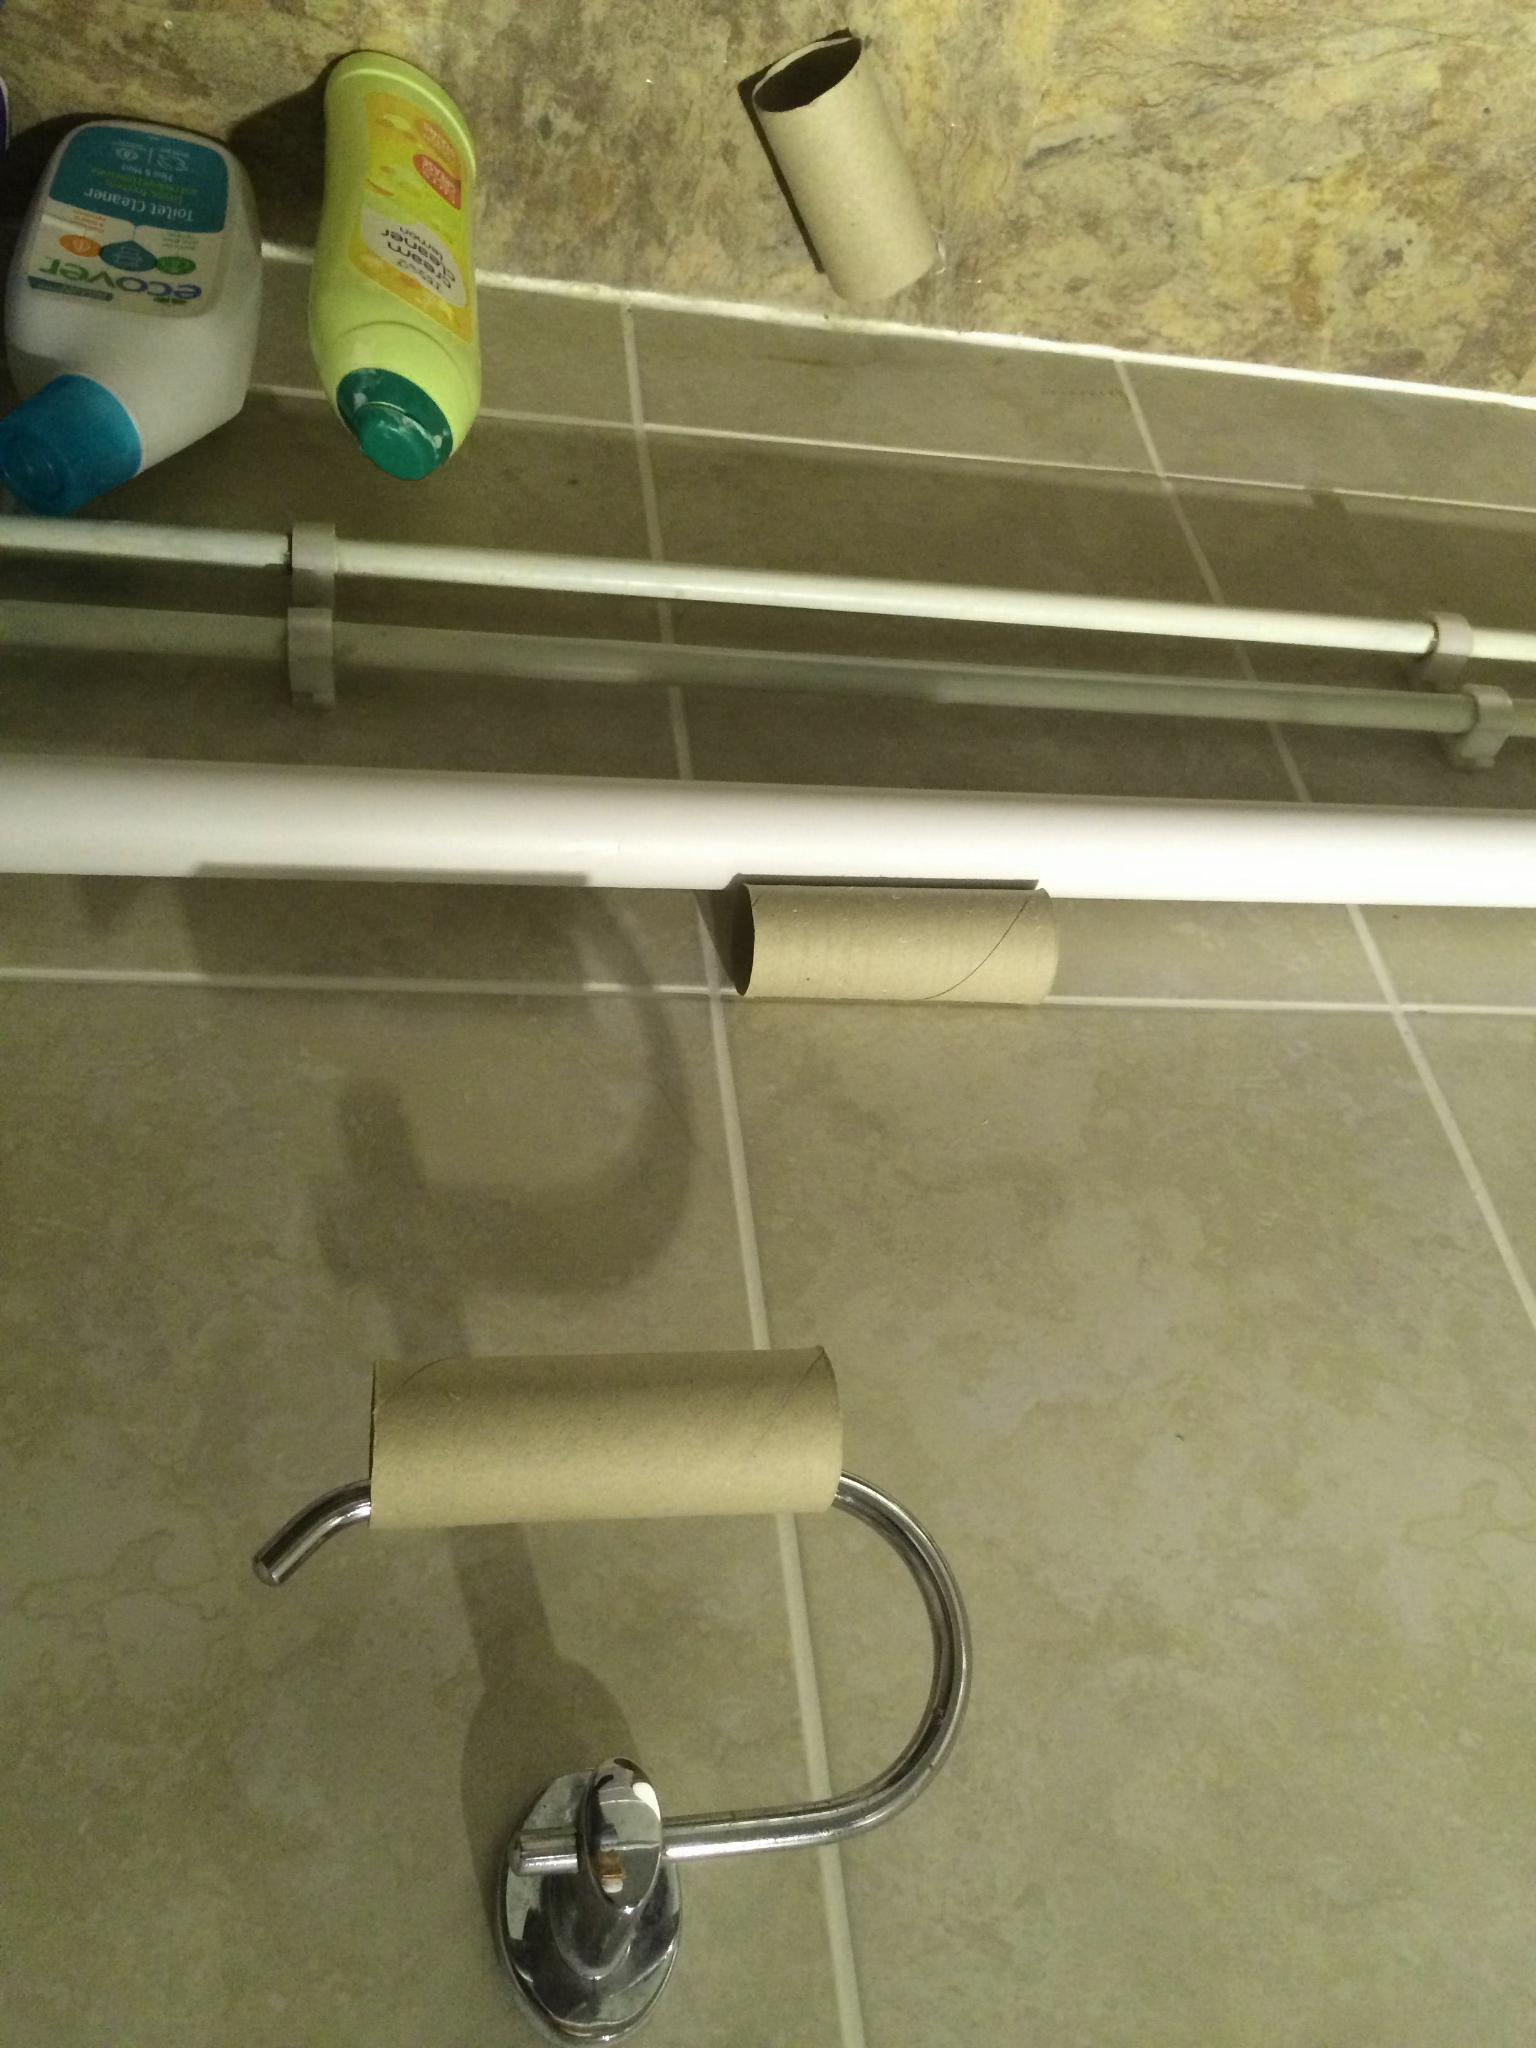Plastic: (0, 50, 276, 539), (284, 27, 500, 495)
